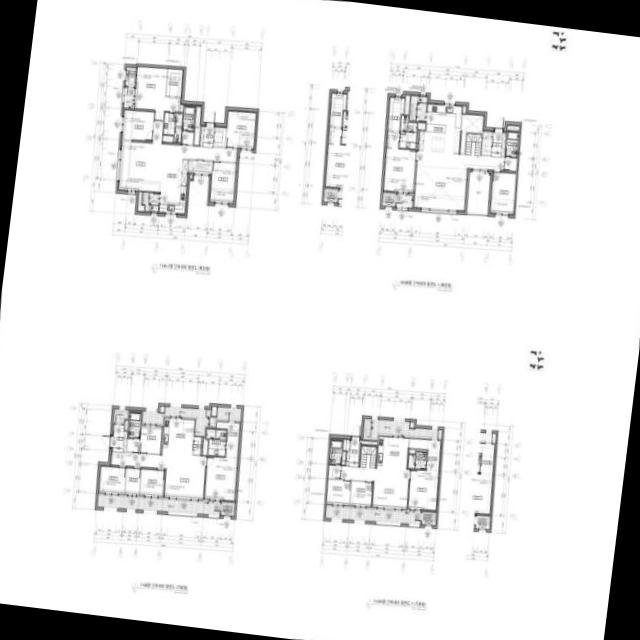background: (0, 0, 640, 640)
space_balconi: (97, 495, 220, 515), (141, 406, 215, 437), (325, 506, 421, 525), (363, 418, 442, 438), (466, 172, 490, 213), (409, 96, 427, 121), (217, 407, 241, 421), (142, 192, 159, 211), (396, 194, 413, 208), (113, 409, 128, 424), (123, 87, 133, 108)
space_bedroom: (134, 66, 180, 120), (383, 131, 416, 192), (204, 456, 238, 500), (408, 469, 439, 510), (225, 110, 256, 148), (490, 172, 516, 214), (210, 162, 236, 203), (122, 110, 153, 140), (98, 466, 126, 494), (139, 469, 164, 496), (326, 479, 351, 505), (139, 425, 161, 454), (350, 481, 372, 506)
space_dressroom: (409, 439, 441, 471), (215, 421, 240, 458), (388, 97, 404, 131), (166, 69, 182, 96)
space_front: (112, 424, 127, 452), (345, 440, 359, 467), (491, 132, 506, 157), (200, 124, 214, 147)
space_kitchen: (418, 104, 462, 153), (159, 158, 188, 213), (162, 418, 194, 456), (376, 436, 408, 469)
space_living_room: (119, 121, 237, 192), (414, 150, 504, 210), (111, 452, 205, 499), (341, 466, 409, 509)
space_other: (460, 114, 483, 153), (465, 132, 482, 156), (125, 468, 140, 495), (360, 445, 376, 468), (188, 160, 212, 173), (194, 107, 201, 145), (481, 131, 492, 155), (213, 126, 226, 146), (504, 157, 517, 171), (328, 465, 341, 479), (126, 438, 139, 452), (181, 131, 193, 145), (193, 437, 201, 454), (137, 192, 144, 211), (404, 95, 410, 114), (202, 437, 208, 455), (361, 440, 377, 445), (409, 449, 427, 453), (343, 438, 349, 450), (507, 125, 519, 130), (417, 123, 425, 130), (211, 406, 216, 416), (342, 451, 345, 465), (124, 420, 128, 430), (462, 106, 466, 113), (180, 104, 183, 112), (160, 406, 164, 412), (190, 175, 192, 178)
space_outdoor_room: (220, 502, 235, 516), (421, 511, 436, 525), (382, 192, 396, 207), (125, 67, 135, 86)
space_toilet: (162, 112, 182, 142), (399, 115, 417, 148), (206, 429, 226, 456), (128, 412, 141, 437), (182, 106, 195, 131), (505, 131, 518, 156), (329, 440, 342, 464), (408, 452, 426, 469)
